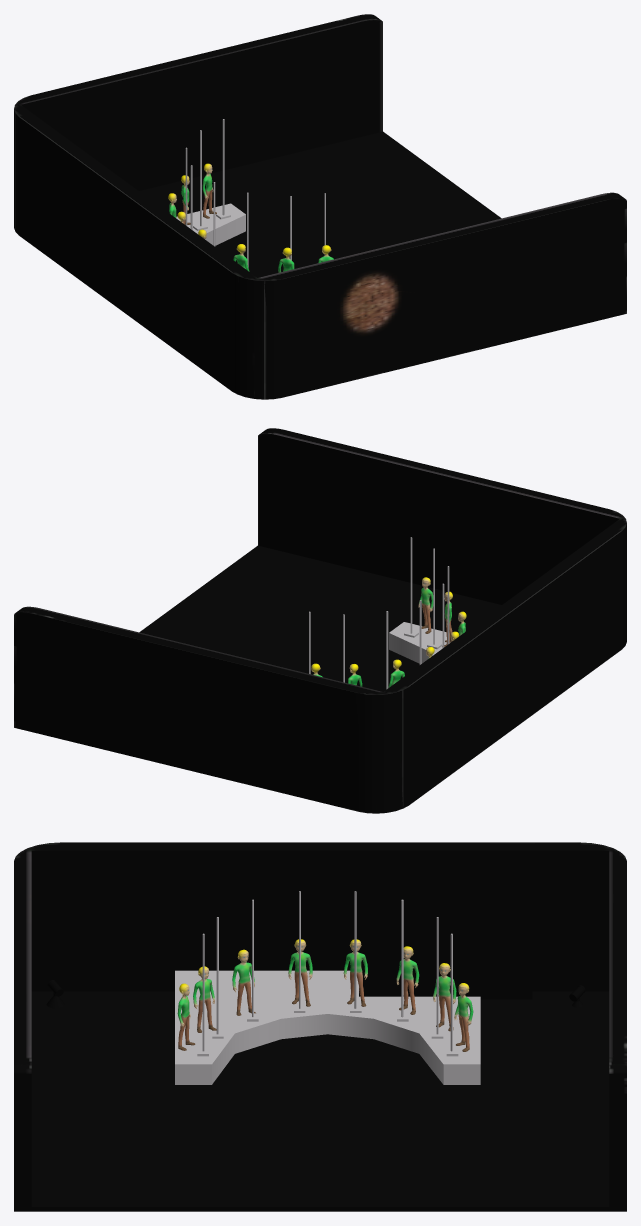
Rendered from Laser concept 1.fbx.
3 views of the same model, one above another, from view 1: azimuth 30°, elevation 25°; view 2: azimuth 150°, elevation 25°; view 3: azimuth 270°, elevation 25° (orthographic). The views are drawn at different scales.
Parts seen in each view (by area): view 1: node_id53, node_id25; view 2: node_id53, node_id25; view 3: node_id53, node_id25, node_id145, node_id195, node_id193, node_id197, node_id157, node_id147, node_id201, node_id199, node_id203.
Part boxes in pixels (left/top/right/bottom): node_id53: left=14, top=14, right=626, bottom=399; node_id25: left=176, top=203, right=245, bottom=245; node_id53: left=14, top=428, right=626, bottom=813; node_id25: left=389, top=622, right=450, bottom=663; node_id53: left=14, top=842, right=626, bottom=1211; node_id25: left=175, top=970, right=480, bottom=1084; node_id145: left=359, top=929, right=532, bottom=999; node_id195: left=343, top=939, right=367, bottom=1006; node_id193: left=396, top=946, right=419, bottom=1014; node_id197: left=288, top=939, right=312, bottom=1006; node_id157: left=232, top=949, right=255, bottom=1015; node_id147: left=433, top=963, right=456, bottom=1031; node_id201: left=193, top=966, right=216, bottom=1032; node_id199: left=454, top=983, right=473, bottom=1051; node_id203: left=177, top=983, right=195, bottom=1050.
Bounding box in the file's own units: 1.56 × 0.4723 × 1.81.
21 materials, 21 textured.
